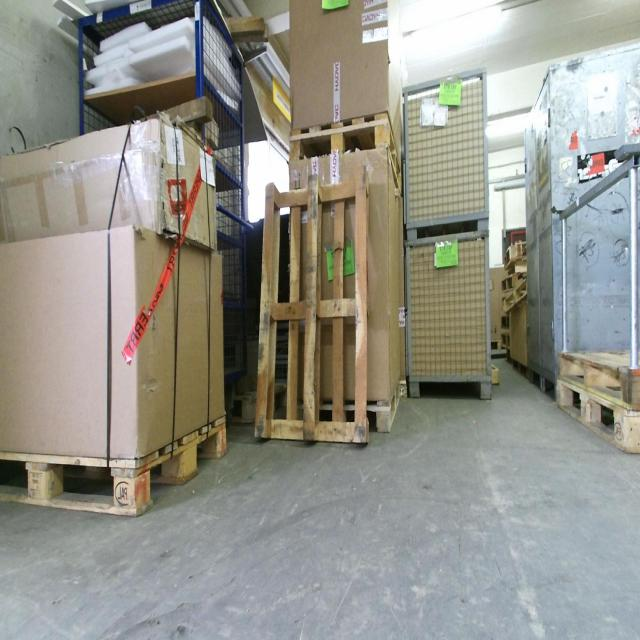pallet: (248, 176, 369, 445), (1, 408, 229, 516), (283, 105, 404, 196), (554, 372, 640, 459), (291, 373, 403, 435), (228, 374, 280, 427), (502, 276, 538, 315), (504, 238, 531, 270), (490, 354, 504, 386), (498, 272, 519, 293), (497, 315, 511, 328), (498, 330, 508, 348), (501, 301, 510, 315)
stillage: (403, 69, 493, 247), (401, 230, 493, 403)
